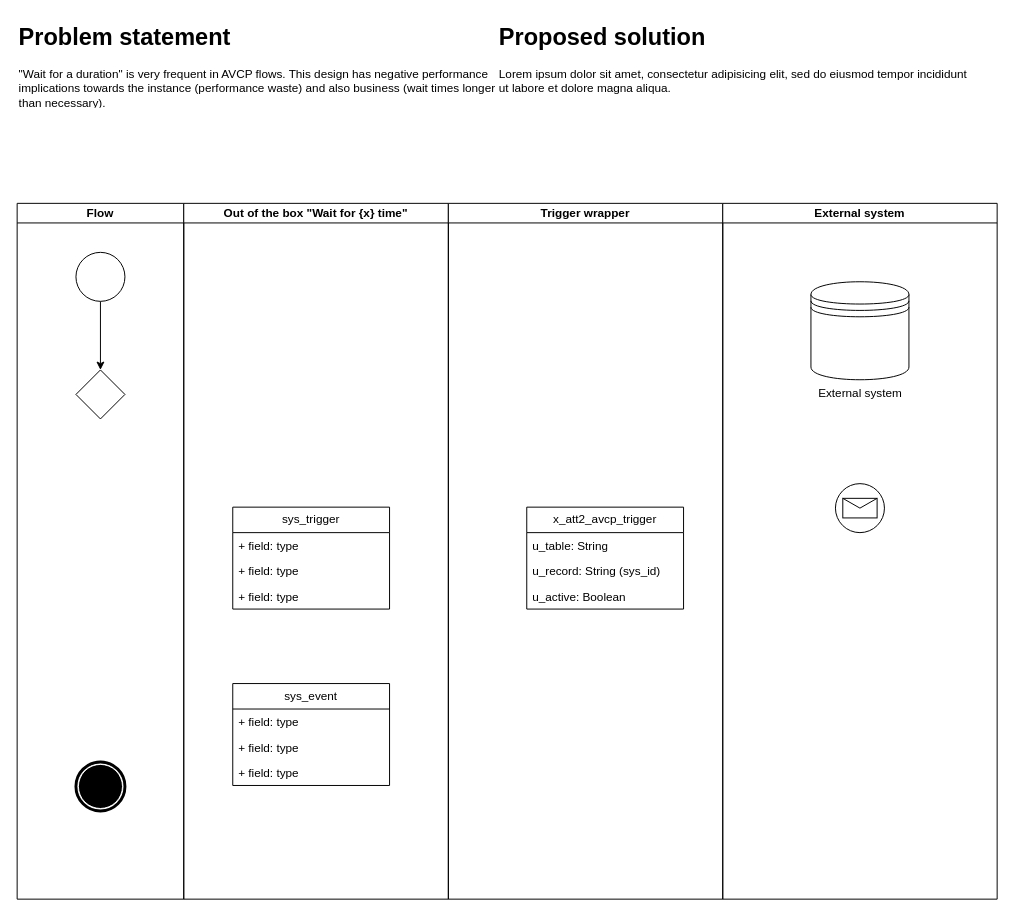
This 1014x916 diagram has some shape labels left out. The centre of each missing label's shape, as x and y in pixels:
"POST Table API" belongs at point 859,508.
"Start" belongs at point 100,276.
